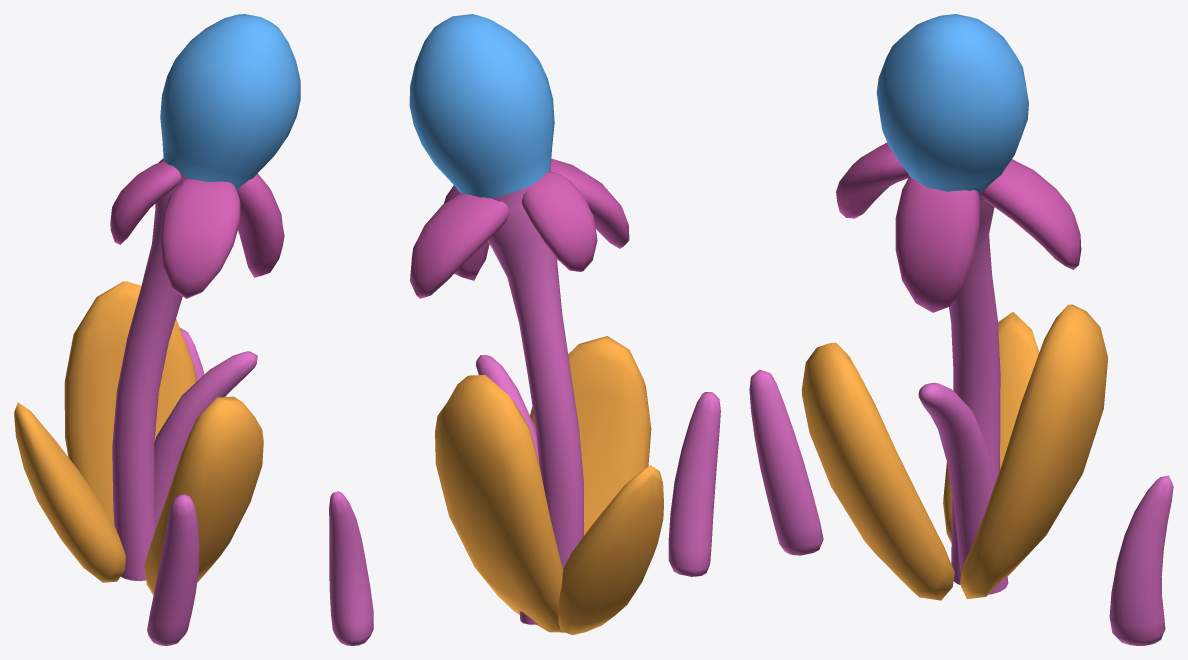
Rendered from ExoticGrass_A_03.fbx.
The picture shows the model from 3 angles, left to right: view 1: azimuth 30°, elevation 25°; view 2: azimuth 150°, elevation 25°; view 3: azimuth 270°, elevation 25°; orthographic projection. The views are drawn at different scales.
Visible parts, largest first — view 1: ExoticGrass_A_03_LOD0; view 2: ExoticGrass_A_03_LOD0; view 3: ExoticGrass_A_03_LOD0.
Part boxes in pixels (<box>): ExoticGrass_A_03_LOD0: <box>14,14,300,645</box>; ExoticGrass_A_03_LOD0: <box>329,14,720,645</box>; ExoticGrass_A_03_LOD0: <box>749,14,1173,645</box>.
Size of what is drawn, in the model's own units: 386 by 807 by 498.
